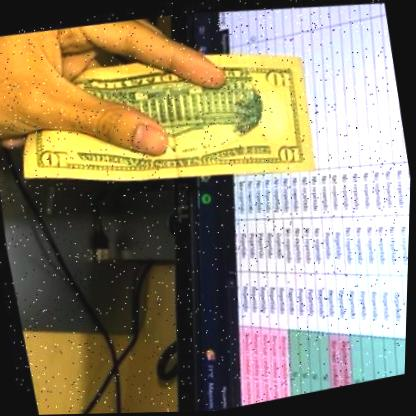ten-back: (0, 0, 333, 230)
